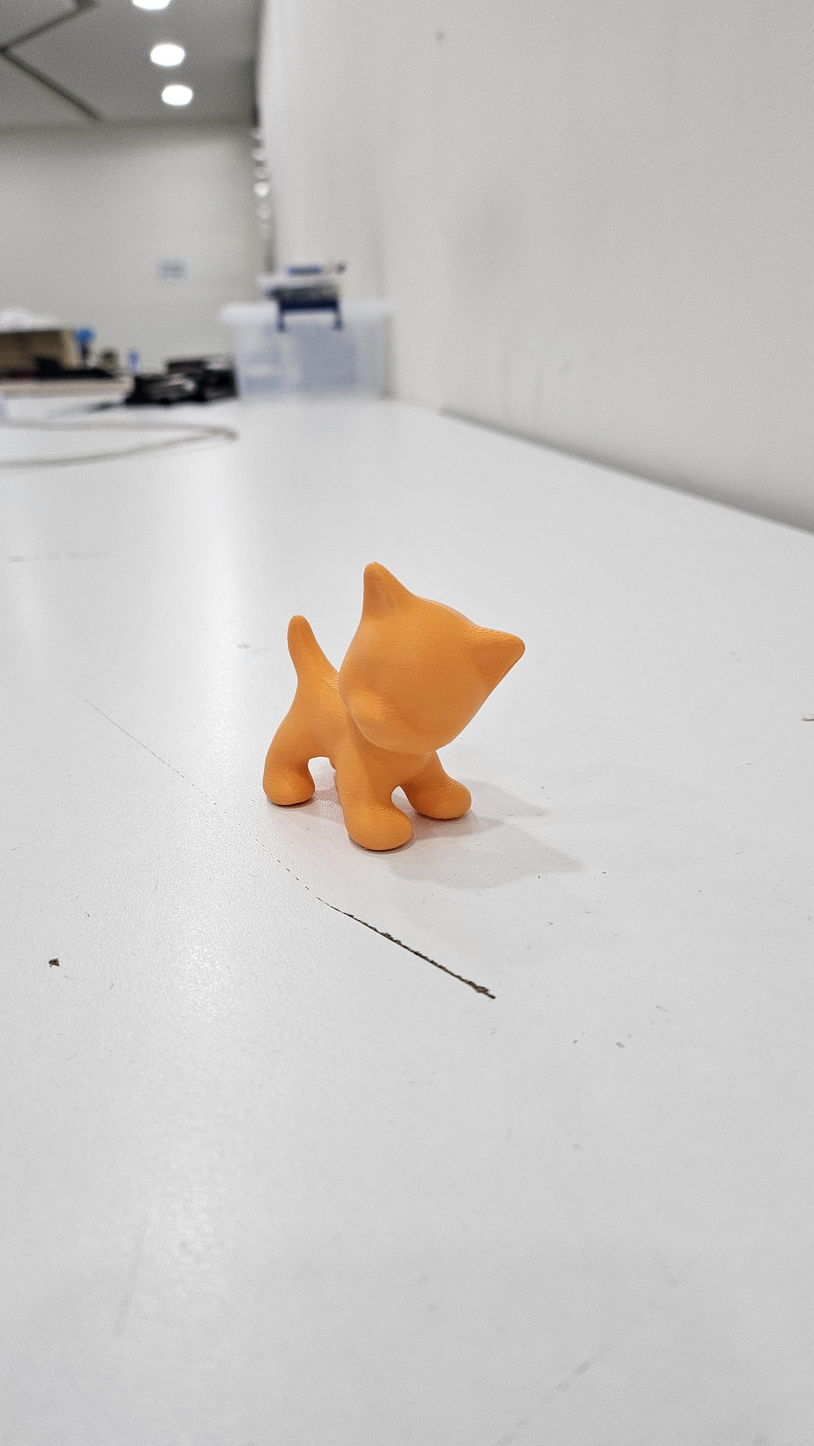cat: (257, 553, 530, 860)
